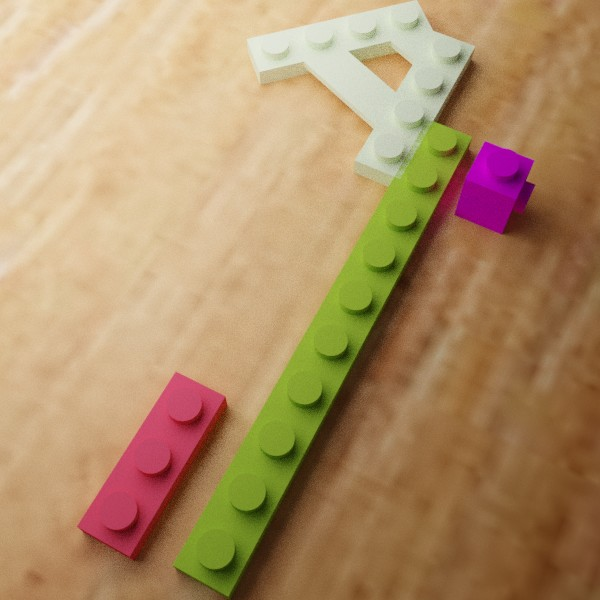lego: (172, 119, 472, 600), (246, 0, 475, 190), (76, 371, 227, 561), (454, 141, 535, 234)
